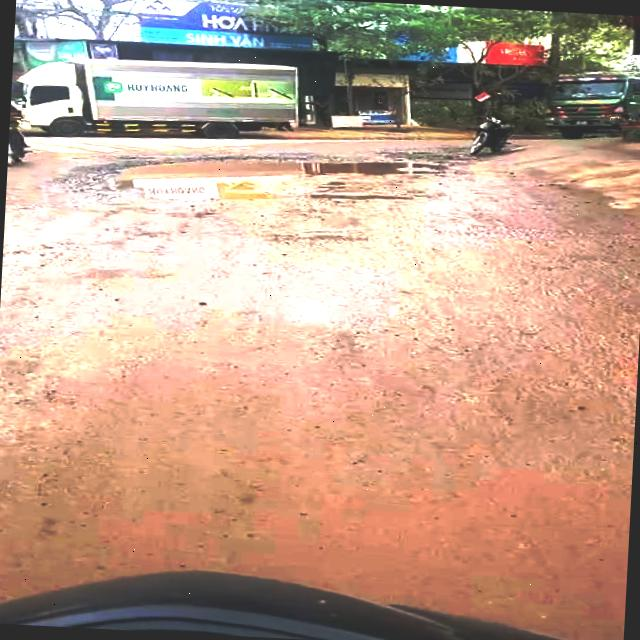pothole: (76, 138, 458, 216)
